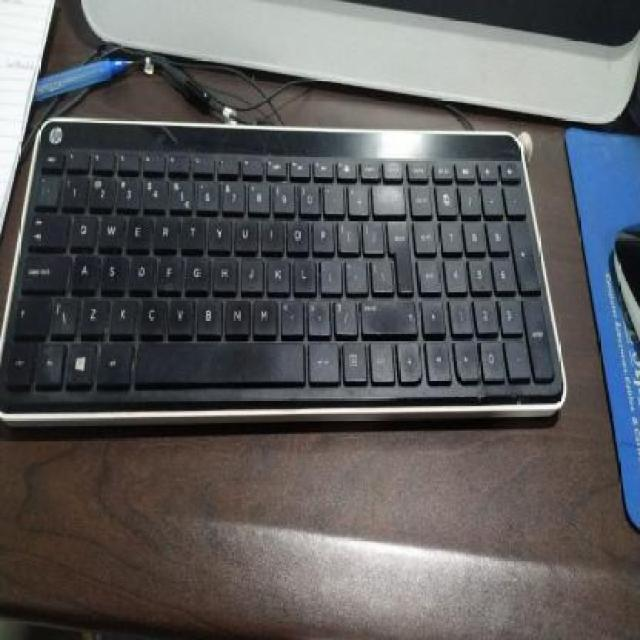keyboard: (0, 119, 571, 419)
